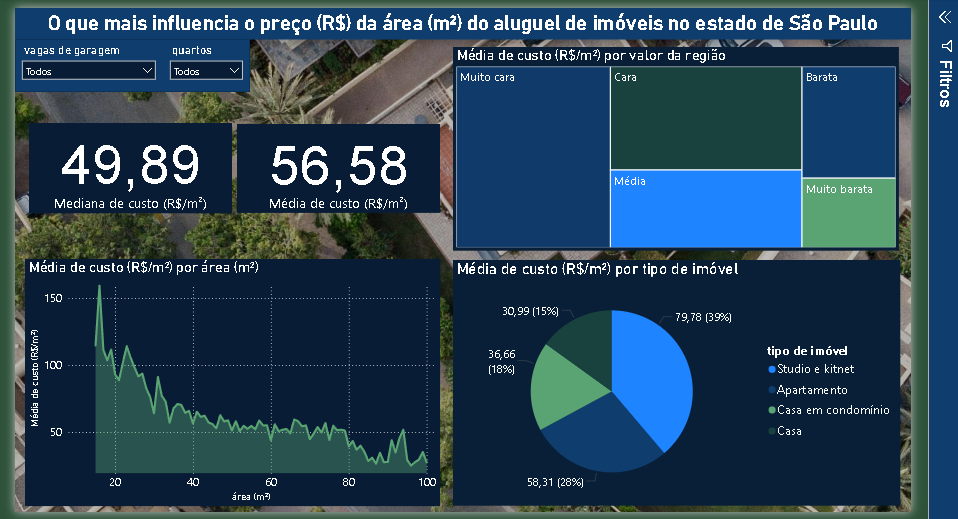

The dashboard page shown, as its layout file describes it:
{"tool":"powerbi","page":{"name":"Relatório Aluguel","canvas":[1280,720],"ordinal":0},"visuals":[{"type":"card","fields":{"Values":["Avg(sp_housing_data_output.custo ($/m²))"]},"box":[317.2,165.7,290,127.1],"z":1000,"group":"g1"},{"type":"textbox","box":[0,0,1280,45],"z":2000},{"type":"shape","box":[0,44.3,335.7,75.7],"z":2500},{"type":"treemap","fields":{"Values":["Avg(sp_housing_data_output.custo (R$/m²))"],"Group":["sp_housing_data_output.valor da região"]},"box":[625.7,55.7,637.1,291.4],"z":3000,"group":"g1"},{"type":"slicer","fields":{"Values":["sp_housing_data_output.vagas de garagem"]},"box":[0,44.3,211.4,120],"z":4000},{"type":"slicer","fields":{"Values":["sp_housing_data_output.quartos"]},"box":[211.4,44.3,124.3,184.3],"z":5000},{"type":"pieChart","fields":{"Y":["Avg(sp_housing_data_output.custo (R$/m²))"],"Category":["sp_housing_data_output.tipo de imóvel"]},"box":[625.7,360,638.6,351.4],"z":6000,"group":"g1"},{"type":"areaChart","fields":{"Category":["sp_housing_data_output.área (m²)"],"Y":["Avg(sp_housing_data_output.custo ($/m²))"]},"box":[14.3,358.6,592.9,352.9],"z":7000,"group":"g1"},{"type":"card","fields":{"Values":["Median(sp_housing_data_output.custo ($/m²))"]},"box":[20,164.3,290,128.6],"z":8000,"group":"g1"},{"type":"group","id":"g1","title":"Grupo 1","box":[14.3,55.7,1250,655.7],"z":8001}]}

Visuals, with their boxes in screenshot pixels (x1, y1, x2, y2):
card - Avg(sp_housing_data_output.custo ($/m²)): 238, 103, 444, 193
textbox: 12, 0, 922, 17
shape: 12, 17, 251, 70
treemap - Avg(sp_housing_data_output.custo (R$/m²)) x sp_housing_data_output.valor da região: 457, 25, 910, 232
slicer - sp_housing_data_output.vagas de garagem: 12, 17, 163, 102
slicer - sp_housing_data_output.quartos: 163, 17, 251, 148
pieChart - Avg(sp_housing_data_output.custo (R$/m²)) x sp_housing_data_output.tipo de imóvel: 457, 241, 911, 491
areaChart - sp_housing_data_output.área (m²) x Avg(sp_housing_data_output.custo ($/m²)): 23, 240, 444, 491
card - Median(sp_housing_data_output.custo ($/m²)): 27, 102, 233, 193
"Grupo 1" group: 23, 25, 911, 491
